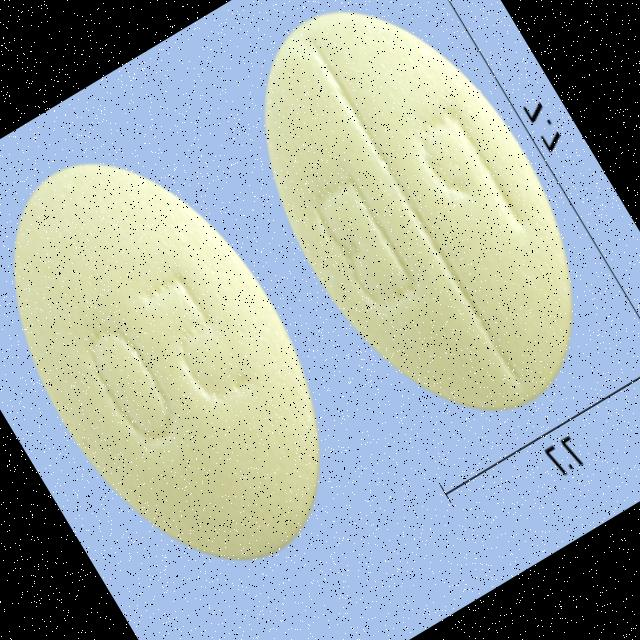Azabio: (195, 0, 639, 466), (0, 107, 389, 621)
